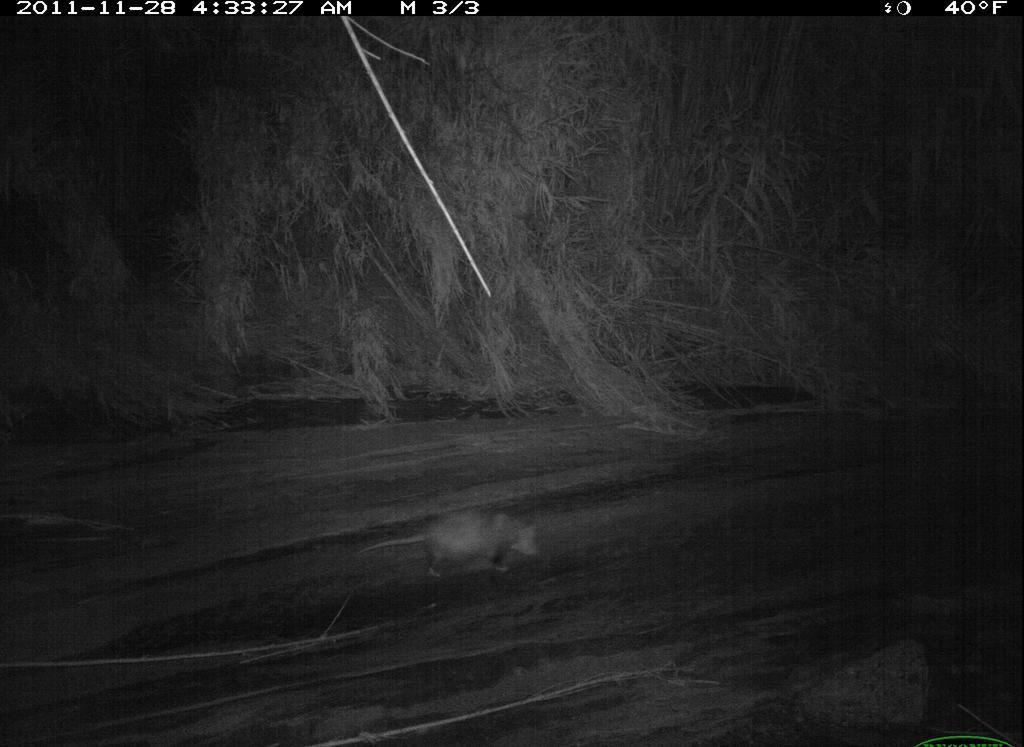opossum: (353, 502, 556, 584)
